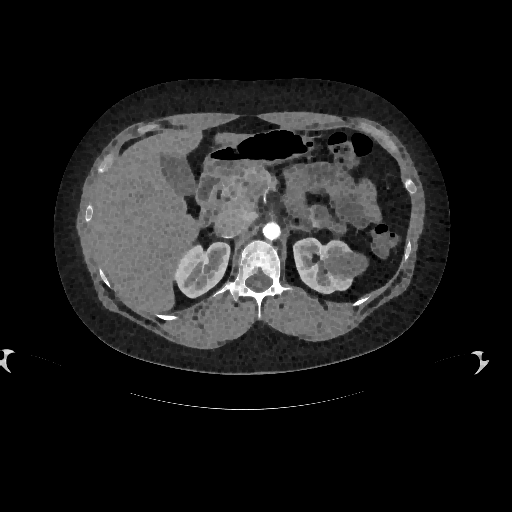Lesion: (325, 245, 368, 279)
